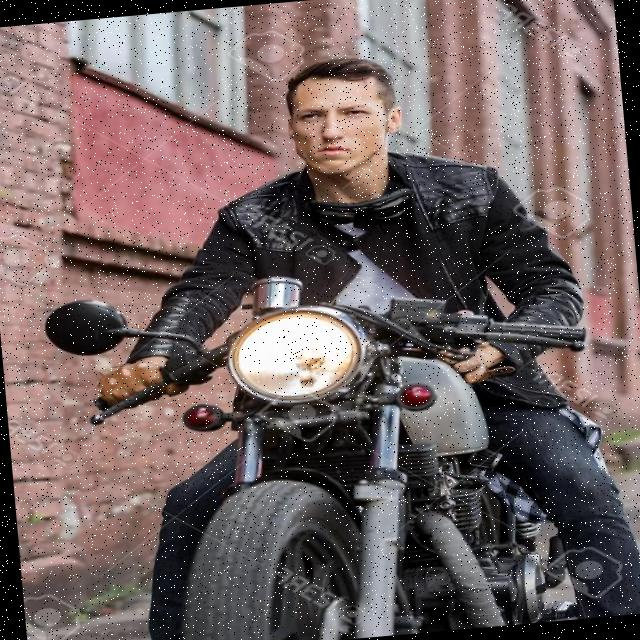No helmet: (266, 48, 423, 220)
